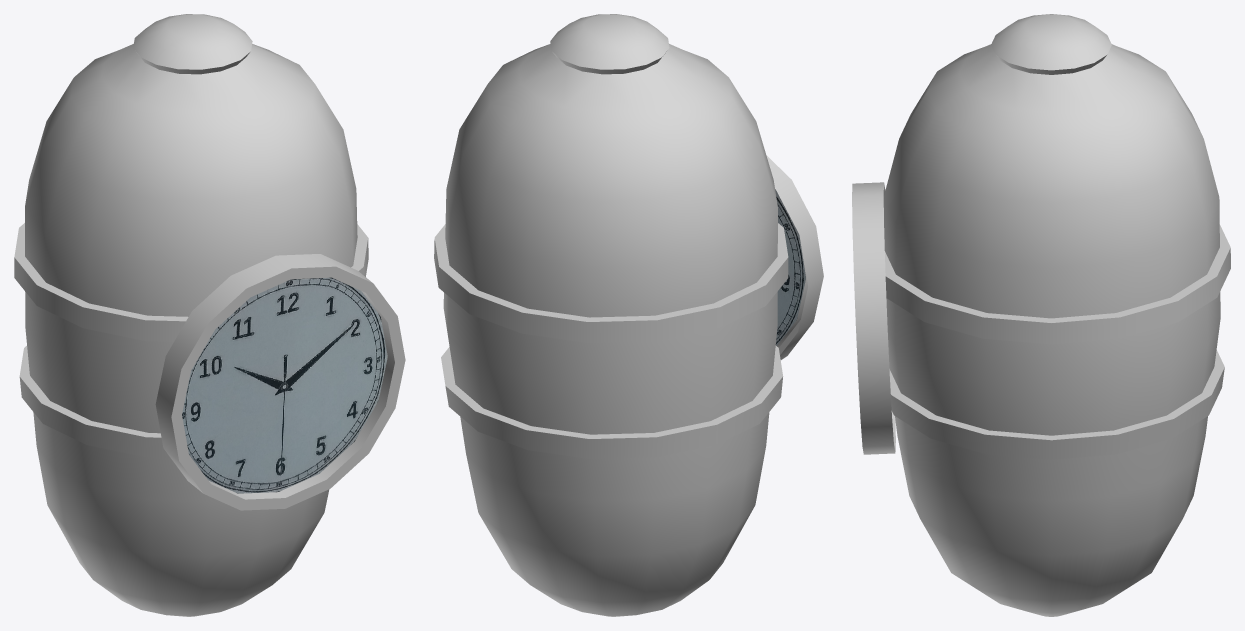
File: BombaCupucuRelogio.dae
3 renders of one model, left to right at view 1: azimuth 30°, elevation 25°; view 2: azimuth 150°, elevation 25°; view 3: azimuth 270°, elevation 25°, orthographic.
Parts seen in each view (by area): view 1: Cylinder; view 2: Cylinder; view 3: Cylinder.
Part boxes in pixels (x1=…): Cylinder: x1=14, y1=14, x2=405, y2=616; Cylinder: x1=434, y1=14, x2=823, y2=616; Cylinder: x1=852, y1=14, x2=1230, y2=616.
Bounding box in the file's own units: 1.75 × 1.85 × 3.17.
Materials: 3 (1 with a texture image).
